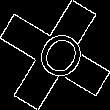O_SW: (24, 22, 86, 88)
